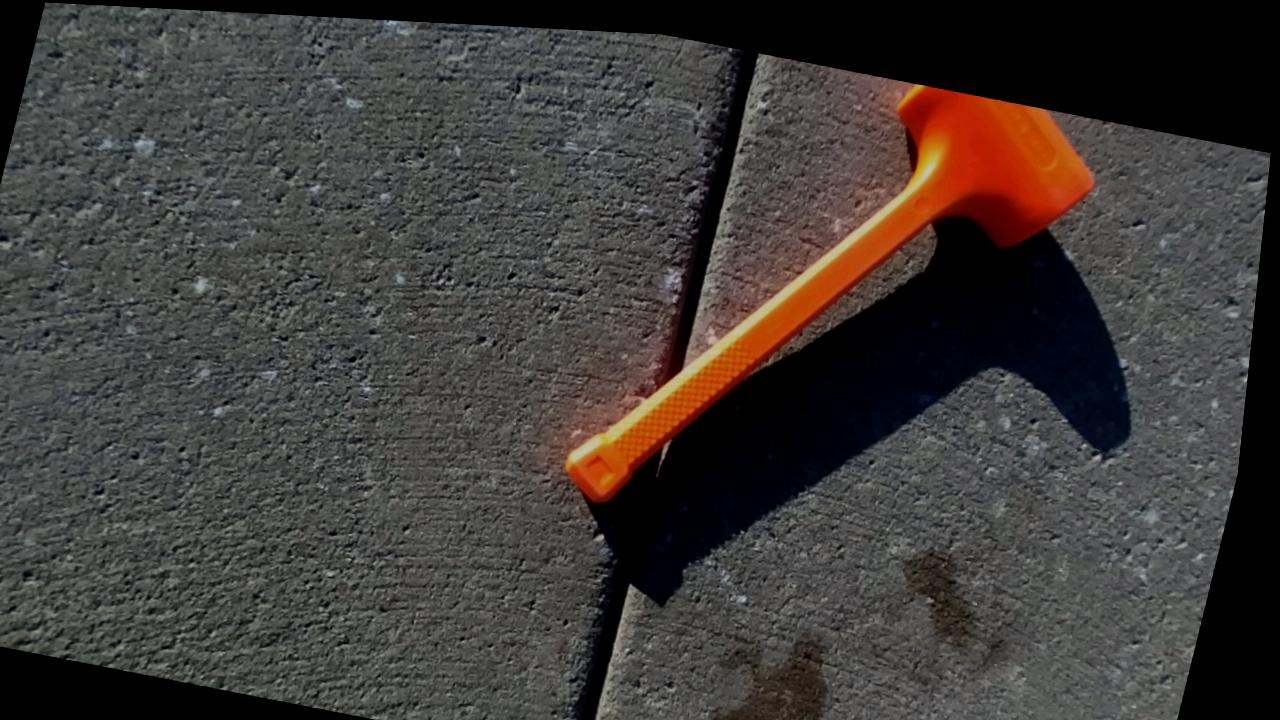mallet: (566, 83, 1092, 500)
